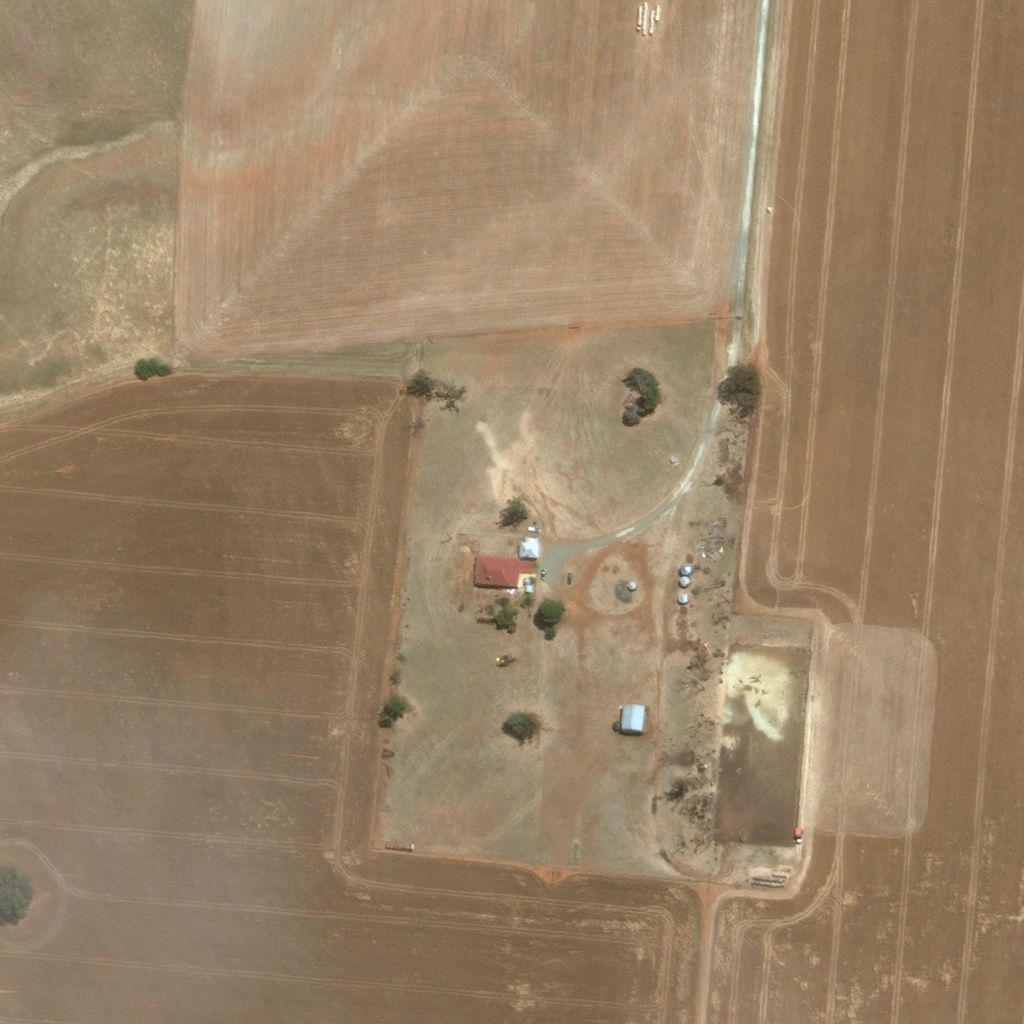0 no-damage: (474, 551, 534, 585), (622, 701, 645, 730), (518, 534, 540, 556), (676, 626, 691, 639), (652, 556, 665, 569), (674, 639, 687, 651), (525, 575, 533, 591), (682, 550, 693, 561), (681, 562, 692, 573), (681, 575, 691, 586), (593, 575, 603, 585), (679, 592, 688, 602), (676, 615, 686, 624), (629, 580, 637, 588)
